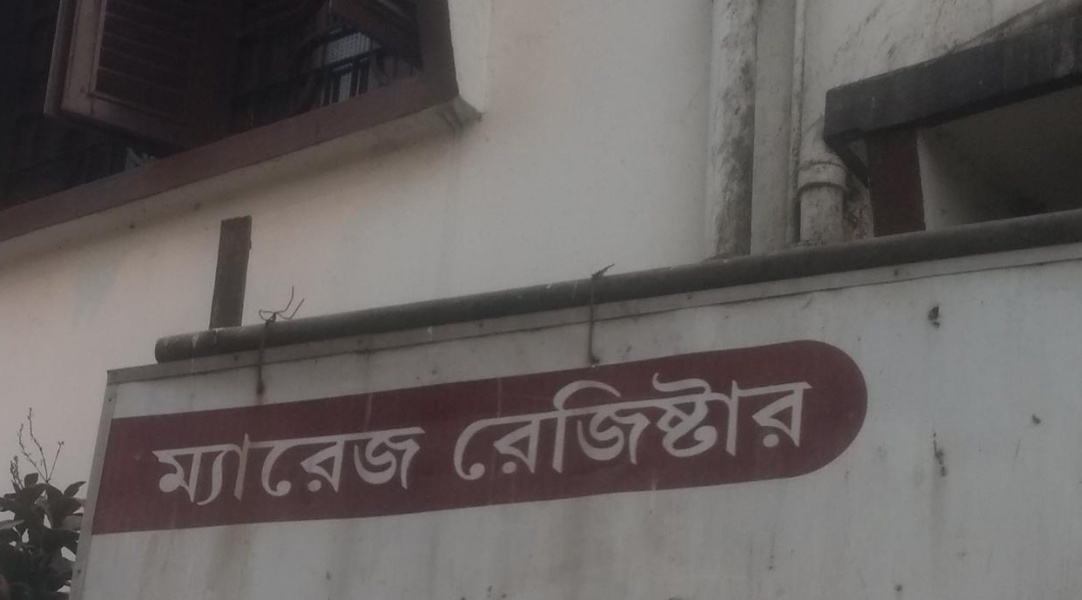text: (465, 348, 480, 494), (481, 348, 496, 494), (497, 348, 512, 494), (513, 348, 528, 494), (529, 348, 544, 494), (545, 348, 560, 494), (561, 348, 576, 494), (577, 348, 592, 494), (593, 348, 608, 494), (609, 348, 624, 494), (625, 348, 640, 494), (641, 348, 656, 494), (657, 348, 672, 494), (673, 348, 688, 494), (689, 348, 704, 494), (705, 348, 720, 494), (721, 348, 736, 494), (737, 348, 752, 494), (753, 348, 768, 494), (769, 348, 784, 494), (785, 348, 800, 494), (801, 348, 816, 494), (161, 409, 176, 512), (177, 409, 192, 512), (193, 409, 208, 512), (209, 409, 224, 512), (225, 409, 240, 512), (241, 409, 256, 512), (257, 409, 272, 512), (273, 409, 288, 512), (289, 409, 304, 512), (305, 409, 320, 512), (321, 409, 336, 512), (337, 409, 352, 512), (353, 409, 368, 512), (369, 409, 384, 512), (385, 409, 400, 512), (401, 409, 416, 512), (417, 409, 432, 512), (150, 409, 160, 512), (817, 348, 820, 494), (433, 409, 436, 512), (463, 348, 464, 494)
